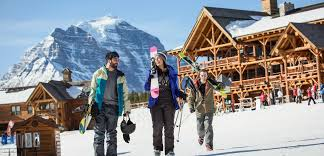skis: (181, 53, 220, 89), (149, 46, 162, 100), (78, 110, 91, 136)
